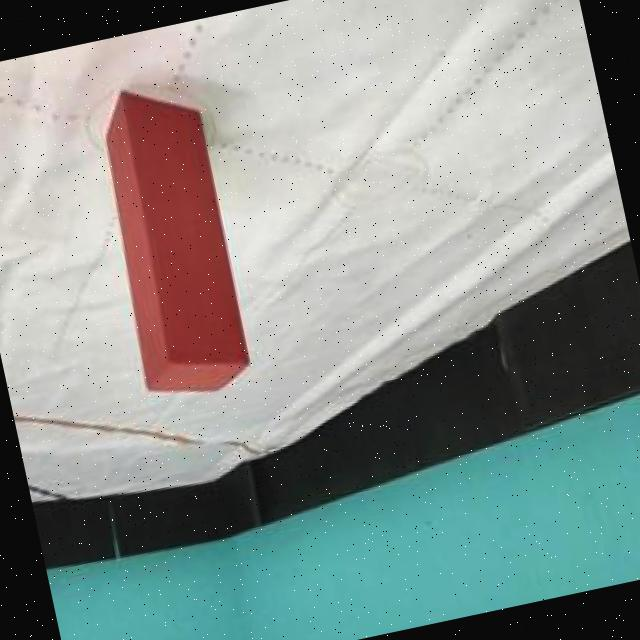redbox: (84, 76, 259, 408)
